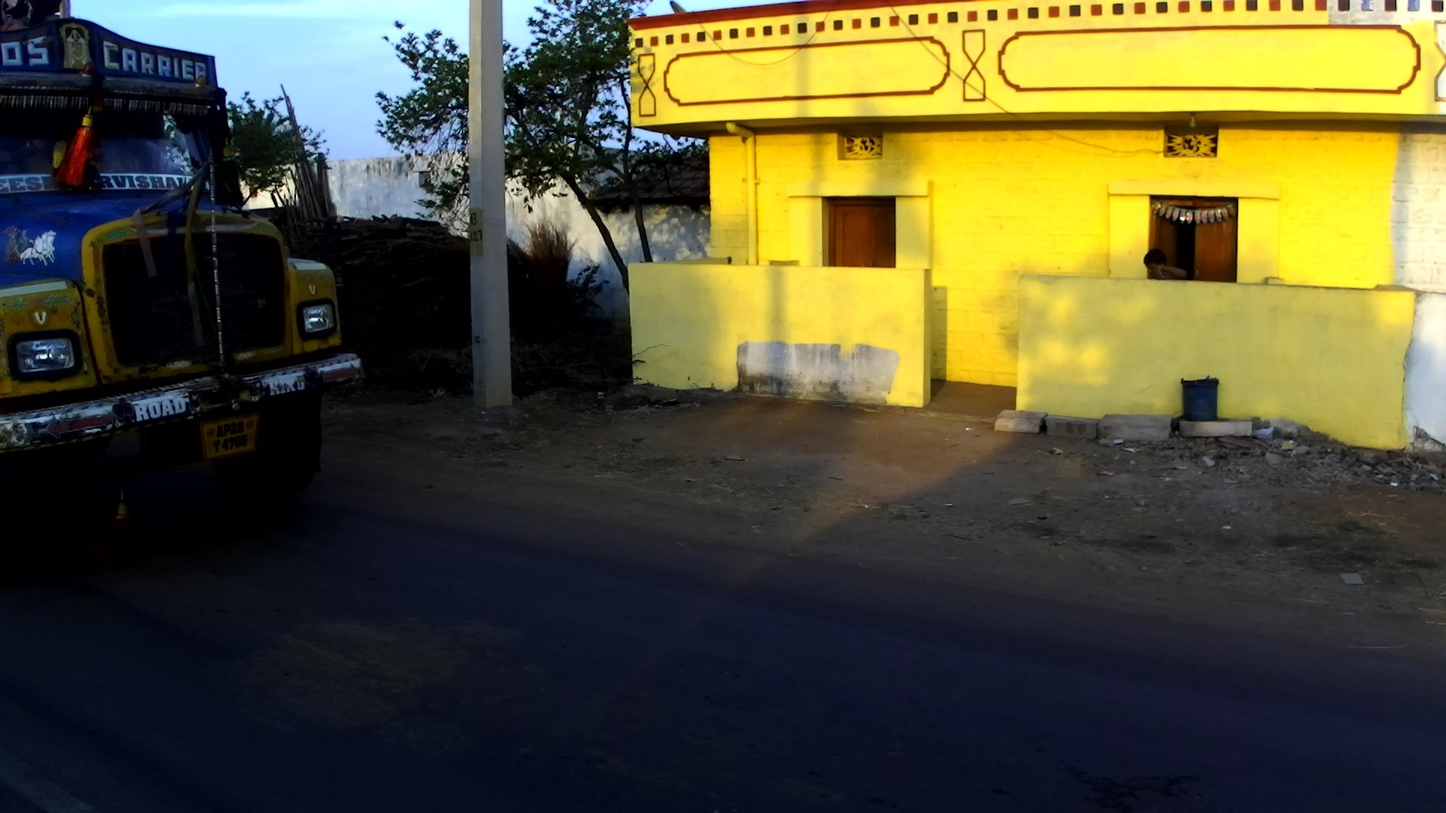person: (1140, 246, 1197, 288)
truck: (1, 1, 364, 560)
